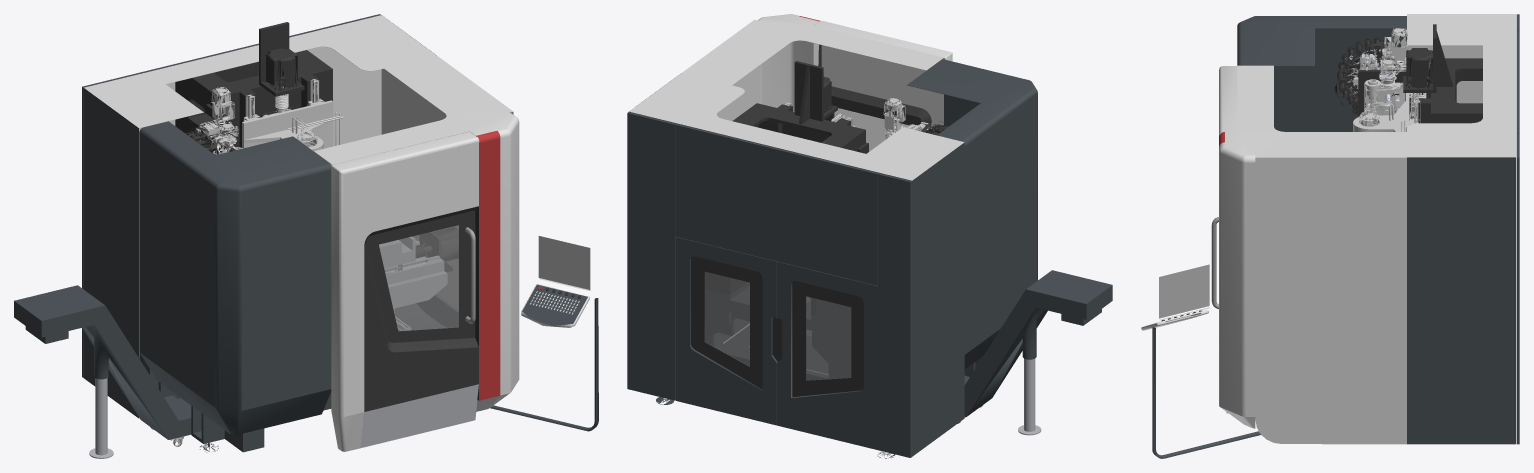
File: cnc-02.glb
3 renders of one model, left to right at view 1: azimuth 30°, elevation 25°; view 2: azimuth 150°, elevation 25°; view 3: azimuth 270°, elevation 25°, orthographic. The views are drawn at different scales.
Visible parts, largest first — view 1: painel_lateral_esq__1, carenagem_externa__1, porta_frontal__6, painel_traseiro__7, painel_lateral_inf__1, porta_frontal__1, cobertura_cabecote__1, porta_frontal__4, moldura_porta__1, porta_frontal__5, esteira_cavacos__2, porta_frontal__2 (+12 smaller); view 2: painel_traseiro__3, painel_lateral_esq__1, carenagem_externa__1, painel_traseiro__7, painel_traseiro__5, painel_traseiro__4, painel_traseiro__2, painel_lateral_inf__1, painel_traseiro__1, cobertura_cabecote__1, carenagem_inferior__1, porta_frontal__6 (+6 smaller); view 3: carenagem_externa__1, painel_traseiro__6, painel_lateral_esq__1, cobertura_cabecote__1, painel_controle__1, porta_frontal__6, painel_traseiro__5, cabecote__12, carenagem_frontal_dir__2, cabecote__3, motor_magazine__4, suporte_magazine__28 (+9 smaller).
Part boxes in pixels (x1,y1,x2,y2): painel_lateral_esq__1: (139,121,331,434); carenagem_externa__1: (84,15,519,418); porta_frontal__6: (331,131,479,451); painel_traseiro__7: (83,88,138,418); painel_lateral_inf__1: (14,285,191,439); porta_frontal__1: (364,244,478,411); cobertura_cabecote__1: (175,22,332,147); porta_frontal__4: (379,225,458,331); moldura_porta__1: (476,131,500,400); porta_frontal__5: (366,210,474,342); esteira_cavacos__2: (360,384,478,447); porta_frontal__2: (352,192,478,449); painel_traseiro__3: (675,124,878,449); painel_lateral_esq__1: (907,59,1037,369); carenagem_externa__1: (629,14,964,180); painel_traseiro__7: (629,111,964,456); painel_traseiro__5: (627,112,675,400); painel_traseiro__4: (878,173,911,457); painel_traseiro__2: (691,256,863,397); painel_lateral_inf__1: (964,270,1112,417); painel_traseiro__1: (704,271,851,380); cobertura_cabecote__1: (705,61,865,315); carenagem_inferior__1: (705,282,982,380); porta_frontal__6: (813,20,952,124); carenagem_externa__1: (1219,14,1515,444); painel_traseiro__6: (1407,157,1515,444); painel_lateral_esq__1: (1237,16,1406,131); cobertura_cabecote__1: (1403,24,1482,123); painel_controle__1: (1159,264,1209,318); porta_frontal__6: (1219,66,1237,135); painel_traseiro__5: (1516,133,1519,444); cabecote__12: (1406,48,1432,94); carenagem_frontal_dir__2: (1152,327,1260,458); cabecote__3: (1353,93,1409,131); motor_magazine__4: (1380,28,1407,78); suporte_magazine__28: (1364,82,1404,115).
Size of the model in its own units: 4.31 by 3.21 by 3.12.
